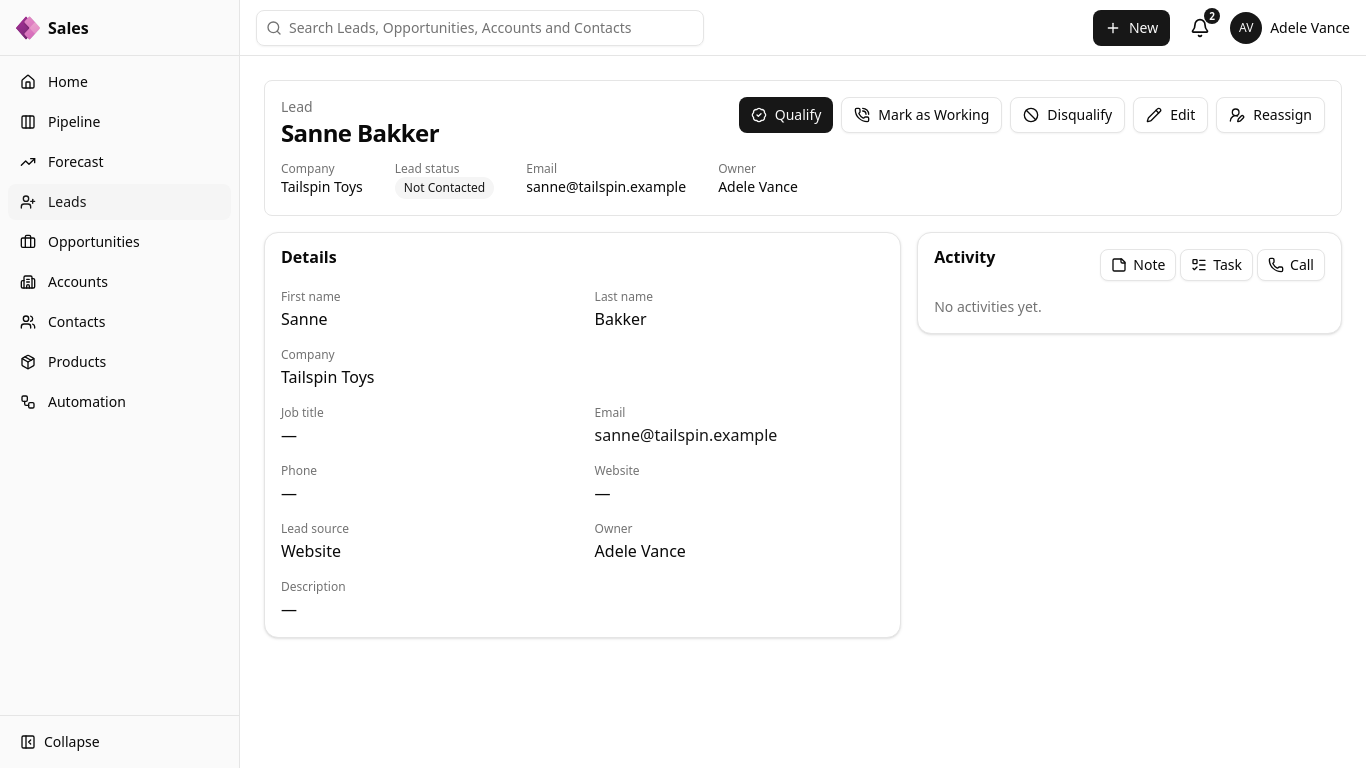
Reassign flow › asks for a salesperson before reassigning
Click the button "Reassign" at [1271, 115], box [1216,97,1325,133]
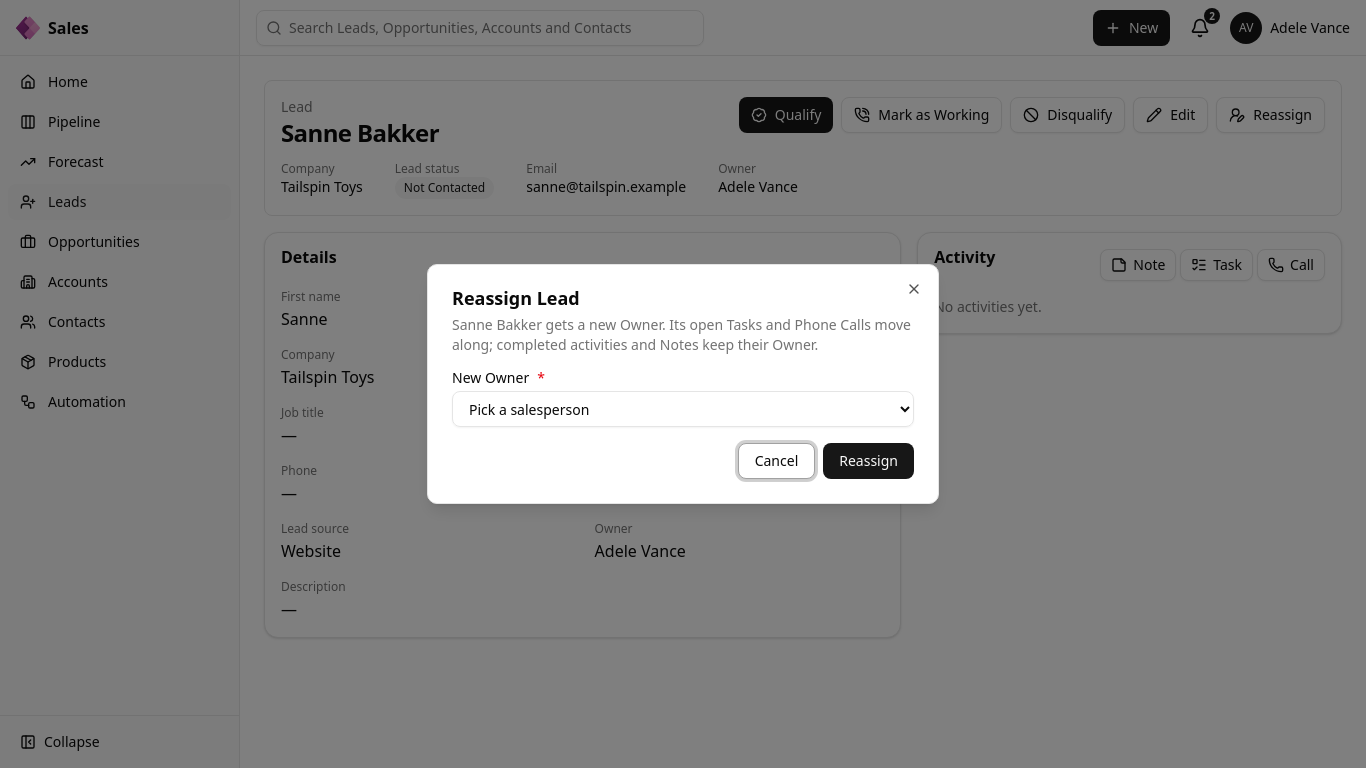
Click the button "Reassign" at [869, 461], box [823,443,914,479]
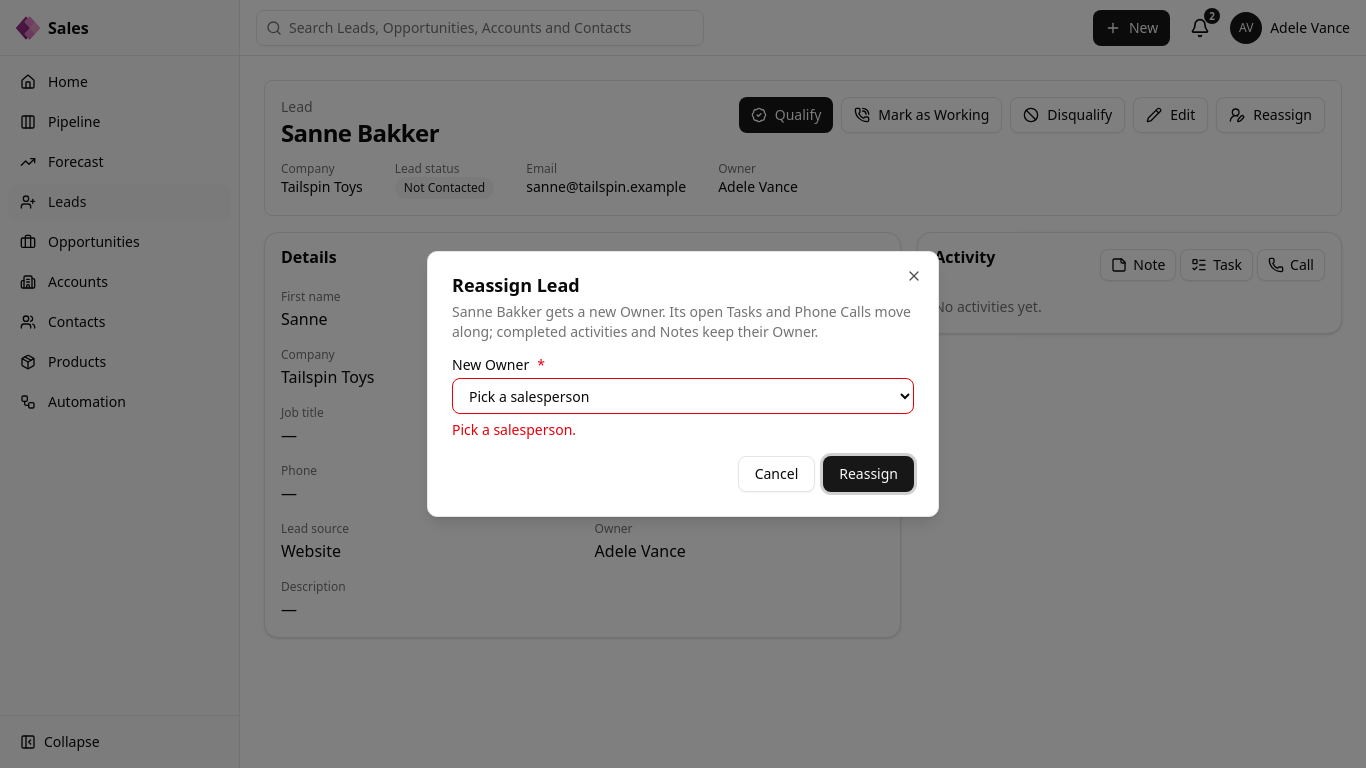
Expected: the text "Pick a salesperson." is shown, [452,420,576,439]
